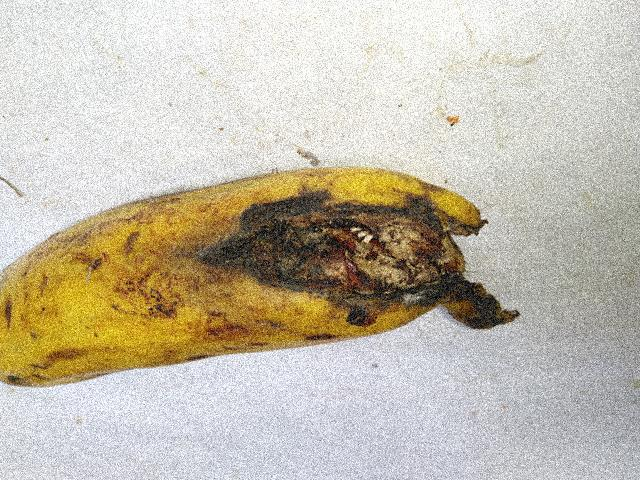rotten: (203, 154, 531, 382)
